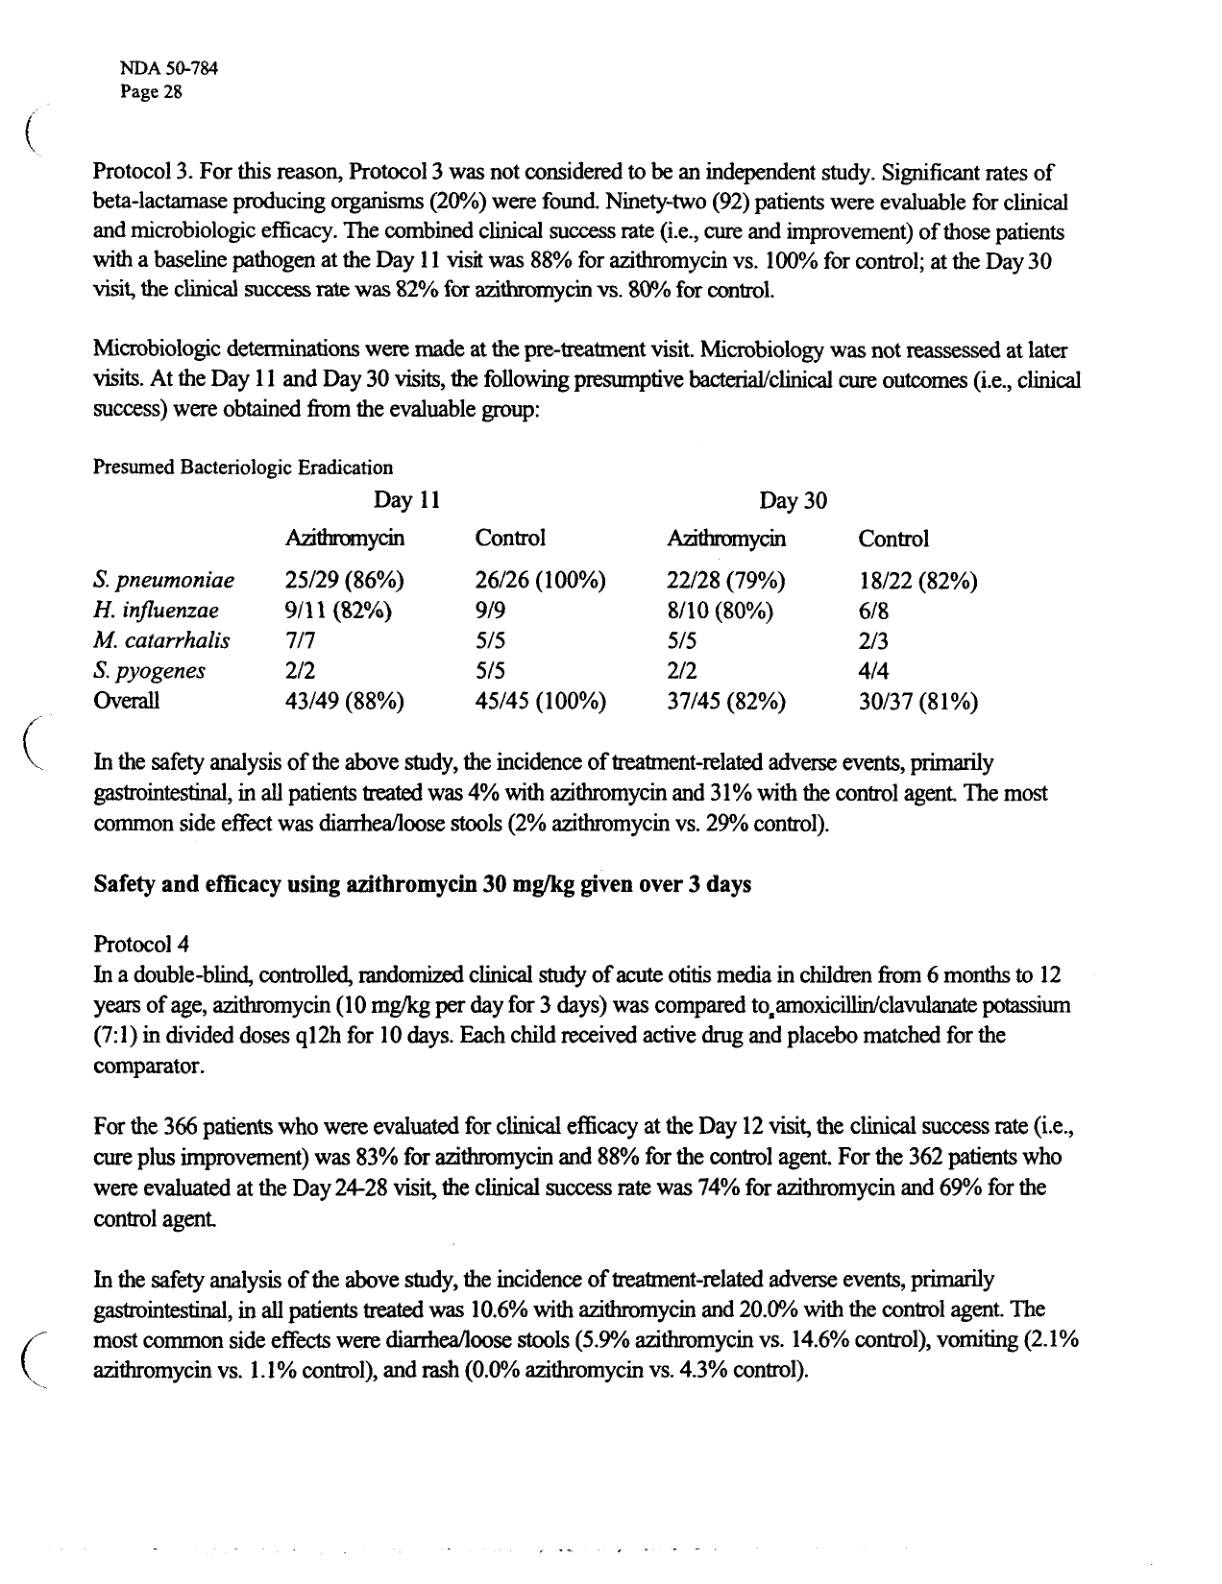nolines: (92, 490, 979, 719)
